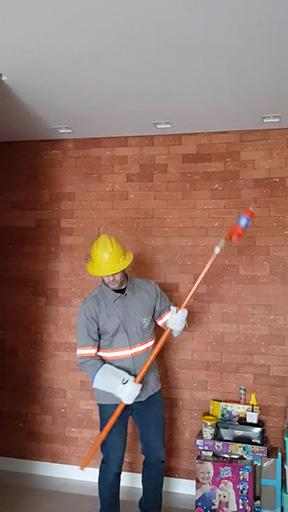Vara_Manobra: (78, 241, 224, 467)
